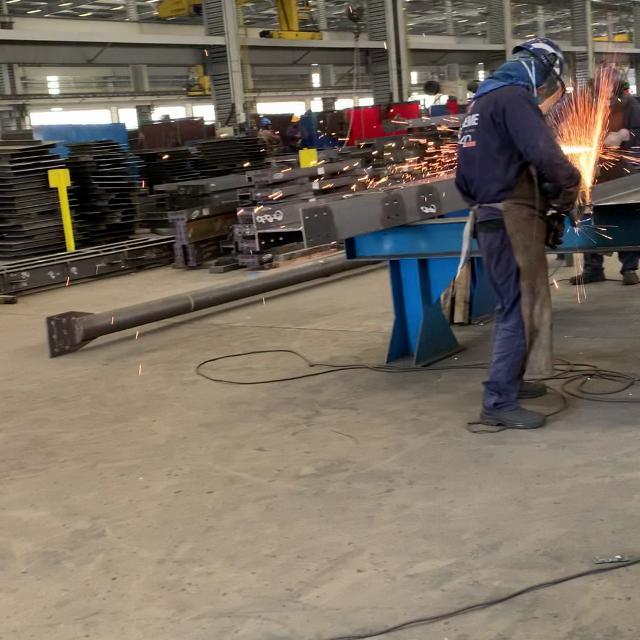eye-glass: (531, 61, 572, 117)
glove: (511, 37, 568, 74)
mask: (454, 38, 584, 430)
safety-shoe: (478, 403, 546, 430), (516, 381, 549, 400)
